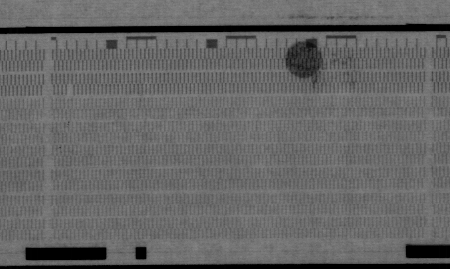Broken hole: (64, 83, 77, 96)
